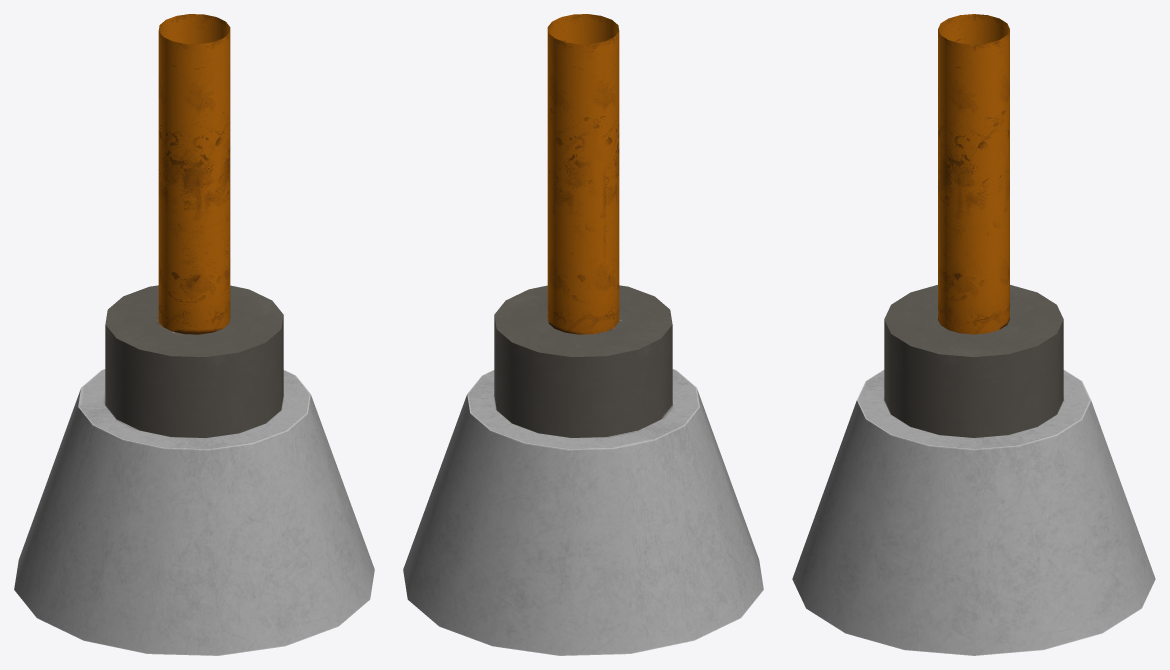
File: LampText.fbx
3 views of the same model, side by side, from view 1: azimuth 30°, elevation 25°; view 2: azimuth 150°, elevation 25°; view 3: azimuth 270°, elevation 25° (orthographic).
Parts seen in each view (by area): view 1: Lamp; view 2: Lamp; view 3: Lamp.
Part boxes in pixels (bbox=[...]): Lamp: bbox=[14, 14, 374, 655]; Lamp: bbox=[403, 14, 763, 655]; Lamp: bbox=[792, 14, 1155, 655].
Size of the model in its own units: 0.3384 by 0.5651 by 0.3384.
2 materials, 2 textured.
